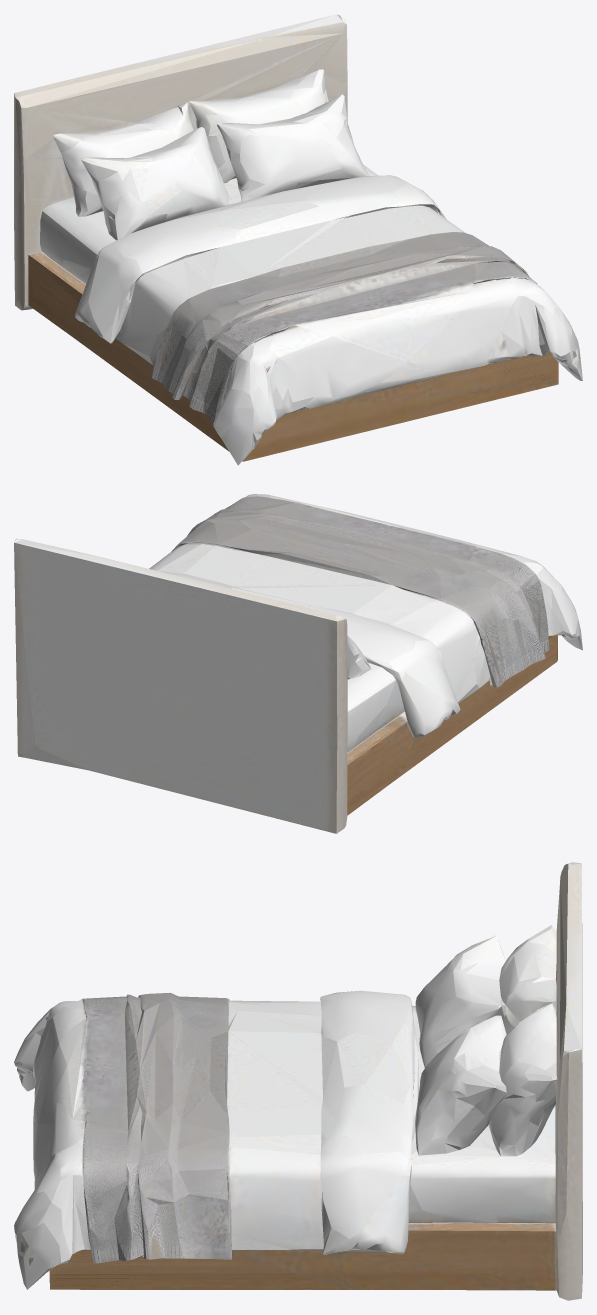
The model's file is bed.glb.
3 views of the same model, one above another, from view 1: azimuth 30°, elevation 25°; view 2: azimuth 150°, elevation 25°; view 3: azimuth 270°, elevation 25° (orthographic). The views are drawn at different scales.
Bounding box in the file's own units: 1.69 × 0.9345 × 1.9.
Materials: 1 (1 with a texture image).
